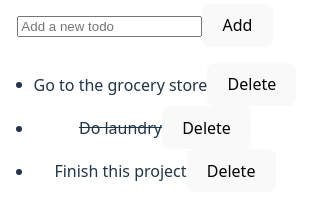
it: TodoList › deletes a todo
Click the button "Delete" next to "Do laundry" at (206, 128), box [162,106,251,149]
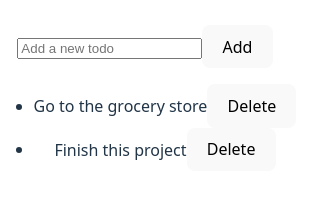
expect the list item "Do laundry" is gone: met
